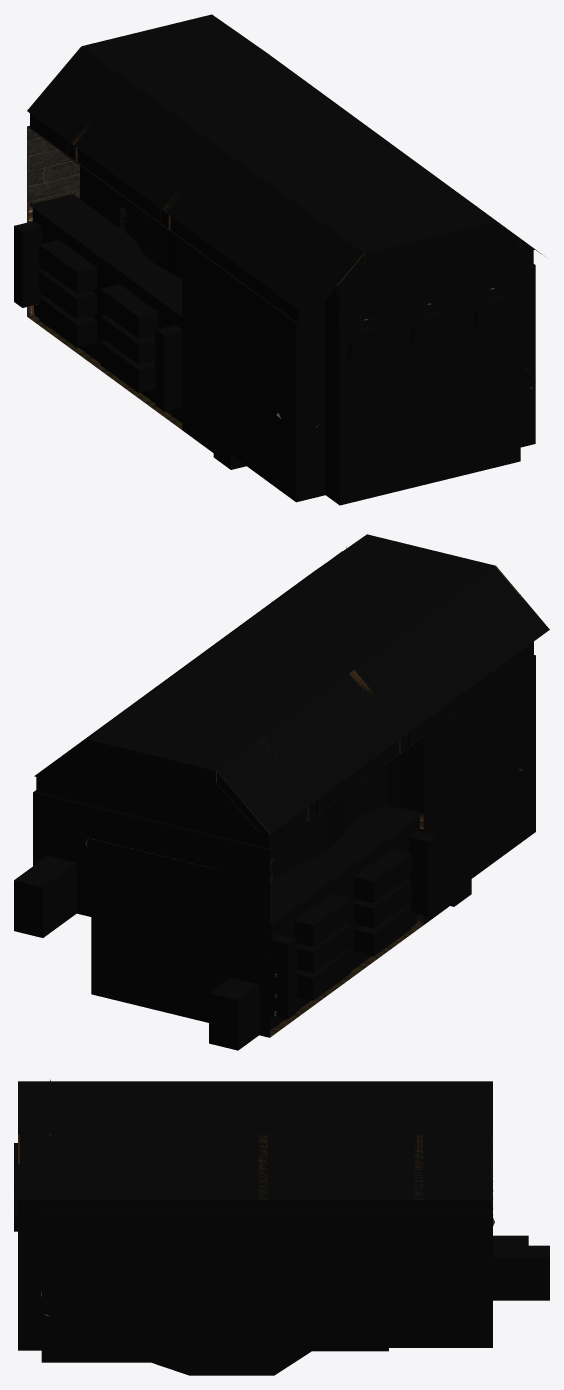
The model's file is milk_bar.glb.
The picture shows the model from 3 angles, top to bottom: view 1: azimuth 30°, elevation 25°; view 2: azimuth 150°, elevation 25°; view 3: azimuth 270°, elevation 25°; orthographic projection. The views are drawn at different scales.
Parts seen in each view (by area): view 1: Material2, Material3 (×2); view 2: Material2, Material3; view 3: Material2, Material3.
Part boxes in pixels (x1=…): Material2: x1=14, y1=14, x2=542, y2=505; Material3 (×2): x1=27, y1=127, x2=520, y2=429; Material2: x1=14, y1=534, x2=549, y2=1050; Material3: x1=270, y1=923, x2=423, y2=1037; Material2: x1=14, y1=1081, x2=549, y2=1375; Material3: x1=18, y1=1134, x2=492, y2=1199.
Size of the model in its own units: 4988 by 4824 by 10663.
25 materials, 25 textured.
